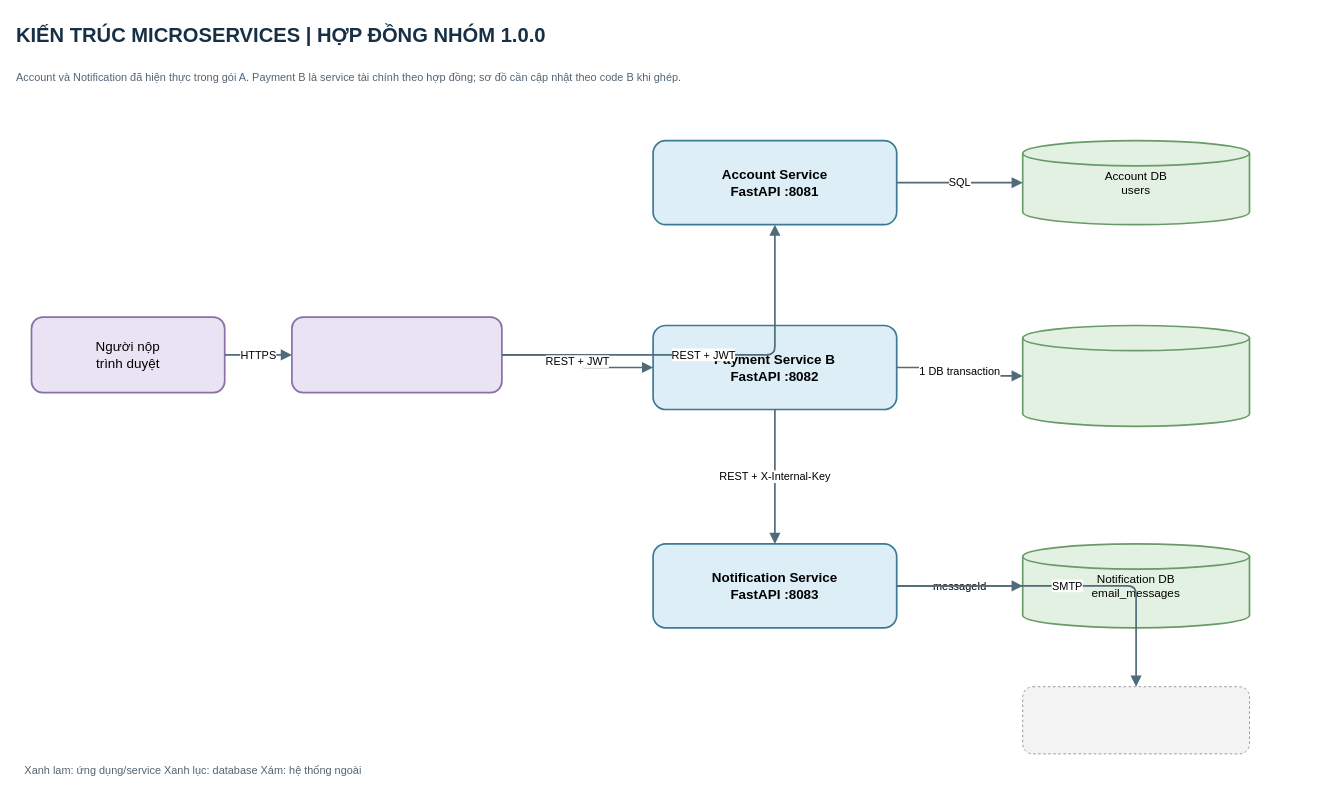
Image size: 1331x801. Some labels were removed from this diagram. Each missing label, with the box of its shape:
Payment DB wallets · students · tuitions payments · OTP · email jobs: (1021, 324, 1250, 427)
React UI localhost:5173: (291, 316, 502, 393)
SMTP provider: (1022, 686, 1250, 754)
